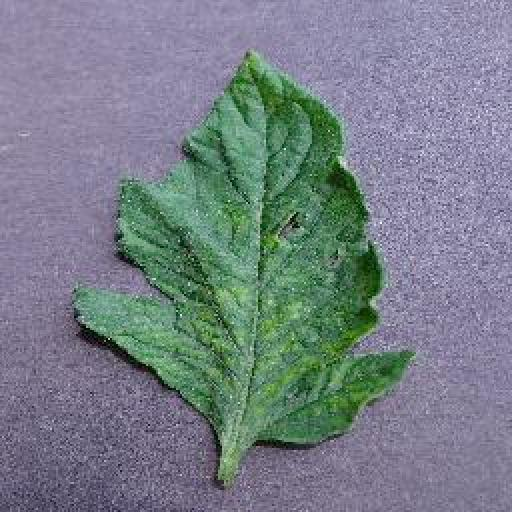Mosaic Virus: (71, 50, 417, 446)
